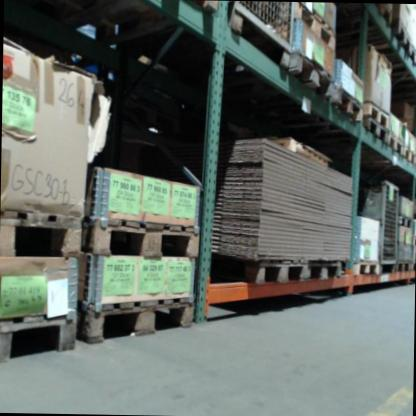pallet: (76, 292, 197, 343), (79, 212, 202, 259), (0, 303, 82, 366), (0, 207, 90, 260), (209, 249, 307, 288), (286, 51, 336, 103), (291, 2, 339, 52), (330, 84, 362, 126), (306, 256, 349, 286), (355, 3, 393, 30), (361, 99, 393, 129), (391, 21, 411, 61), (365, 119, 388, 148), (351, 261, 387, 279), (388, 135, 404, 160), (395, 260, 412, 278), (404, 146, 416, 169), (396, 214, 411, 229), (409, 47, 416, 78)
stillage: (222, 2, 296, 77), (355, 177, 400, 272)
